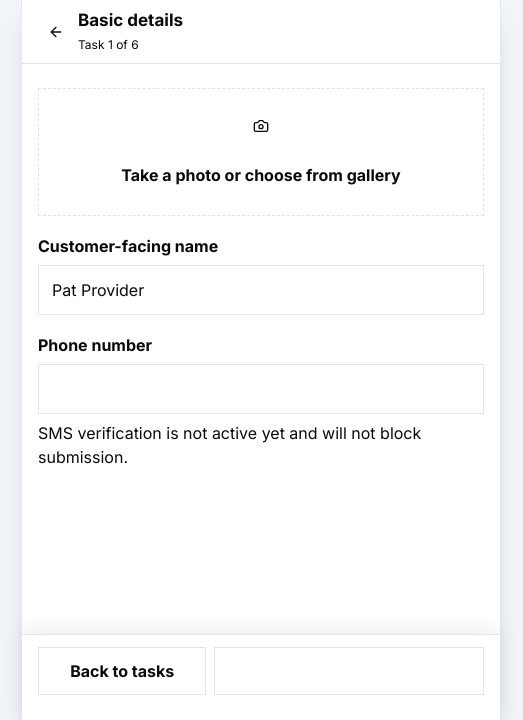
Test: a failed flush keeps the provider on the task › a 409 offers Reload, not Retry — retrying would overwrite the other writer
Replace the text in the field with test id "field-displayName" with "Conflicting". click: (261, 290)
box: [38,265,484,315]
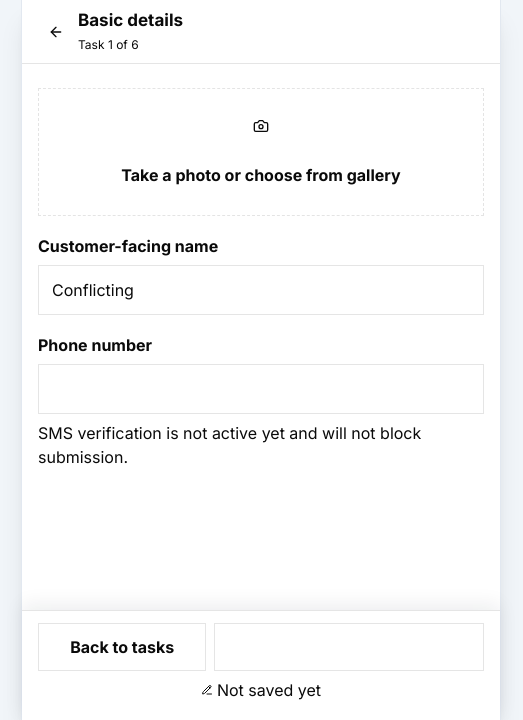
Click the button with test id "onboarding-v2-close". click: click(56, 32)
box: [34,10,78,54]
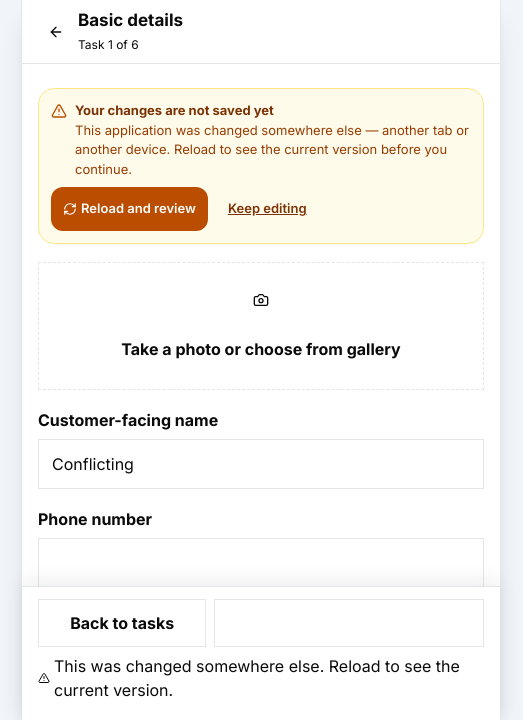
expect the button with test id "onboarding-exit-reload" is shown: met, box [51,187,208,231]
